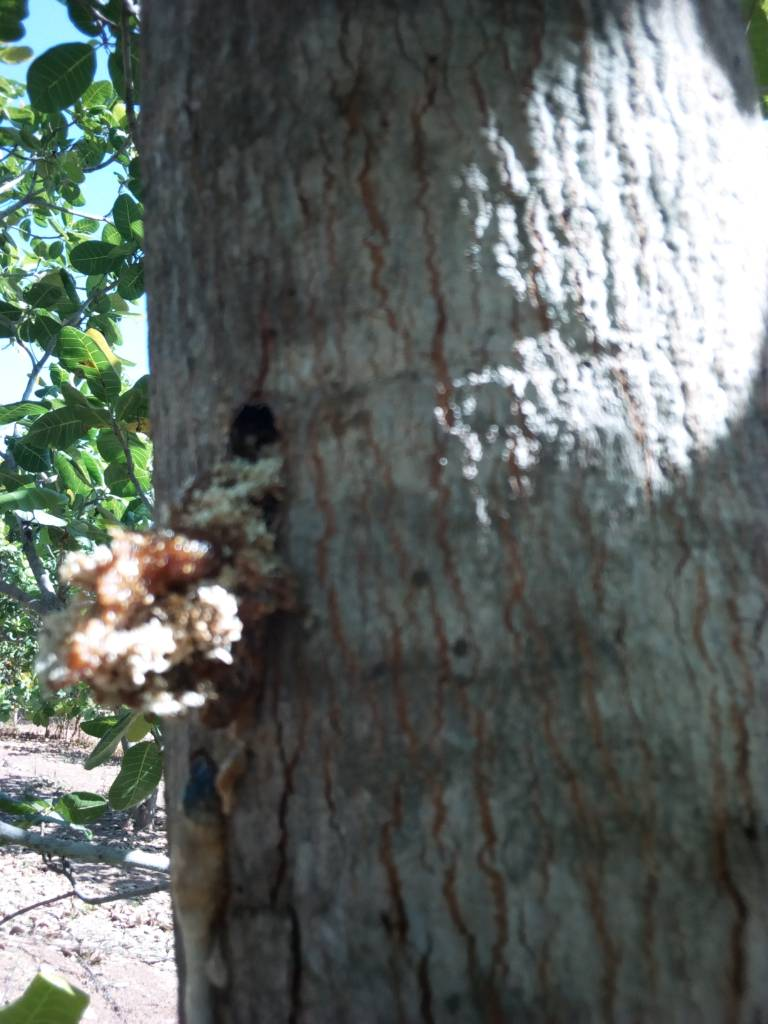Apate terebrans: (19, 375, 377, 728)
